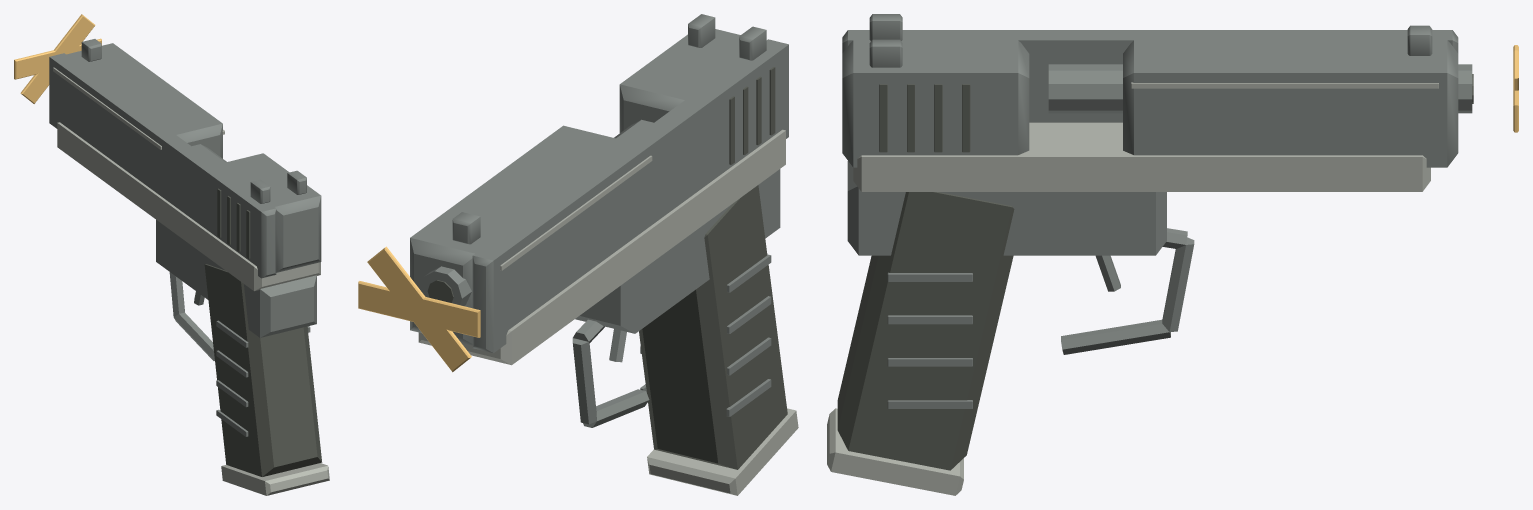
Rendered from Pistol.fbx.
3 renders of one model, left to right at view 1: azimuth 30°, elevation 25°; view 2: azimuth 150°, elevation 25°; view 3: azimuth 270°, elevation 25°, orthographic. The views are drawn at different scales.
Visible parts, largest first — view 1: Slide__Steel, Body__Rubber, Body__Steel, Slide__WornSteel, MuzzleFlash__Flash, Magazine__WornSteel, Slide__Rubber; view 2: Slide__Steel, Body__Rubber, Body__Steel, Slide__WornSteel, MuzzleFlash__Flash, Magazine__WornSteel, Slide__Rubber, Barrel__Steel; view 3: Slide__Steel, Body__Rubber, Slide__WornSteel, Body__Steel, Barrel__Steel, Magazine__WornSteel, Slide__Rubber.
Boxes of the visible parts, bbox=[...] form: Slide__Steel: bbox=[49, 39, 321, 278]; Body__Rubber: bbox=[204, 264, 322, 476]; Body__Steel: bbox=[156, 220, 316, 436]; Slide__WornSteel: bbox=[53, 67, 320, 291]; MuzzleFlash__Flash: bbox=[14, 14, 101, 103]; Magazine__WornSteel: bbox=[221, 463, 329, 495]; Slide__Rubber: bbox=[217, 188, 250, 258]; Slide__Steel: bbox=[410, 14, 788, 352]; Body__Rubber: bbox=[639, 185, 787, 469]; Body__Steel: bbox=[572, 169, 780, 427]; Slide__WornSteel: bbox=[418, 129, 785, 365]; MuzzleFlash__Flash: bbox=[358, 246, 480, 372]; Magazine__WornSteel: bbox=[647, 408, 798, 495]; Slide__Rubber: bbox=[729, 67, 775, 164]; Barrel__Steel: bbox=[420, 119, 653, 305]; Slide__Steel: bbox=[842, 14, 1458, 167]; Body__Rubber: bbox=[837, 192, 1014, 470]; Slide__WornSteel: bbox=[853, 82, 1438, 191]; Body__Steel: bbox=[847, 161, 1194, 408]; Barrel__Steel: bbox=[1048, 64, 1472, 113]; Magazine__WornSteel: bbox=[827, 408, 963, 495]; Slide__Rubber: bbox=[879, 84, 970, 152].
Bounding box in the file's own units: 0.052 × 0.178 × 0.2515.
